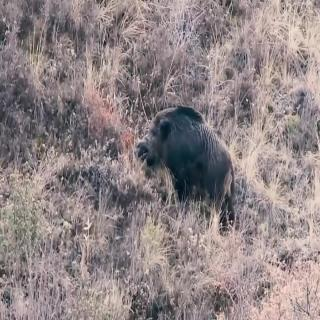Pig: (133, 85, 264, 249)
